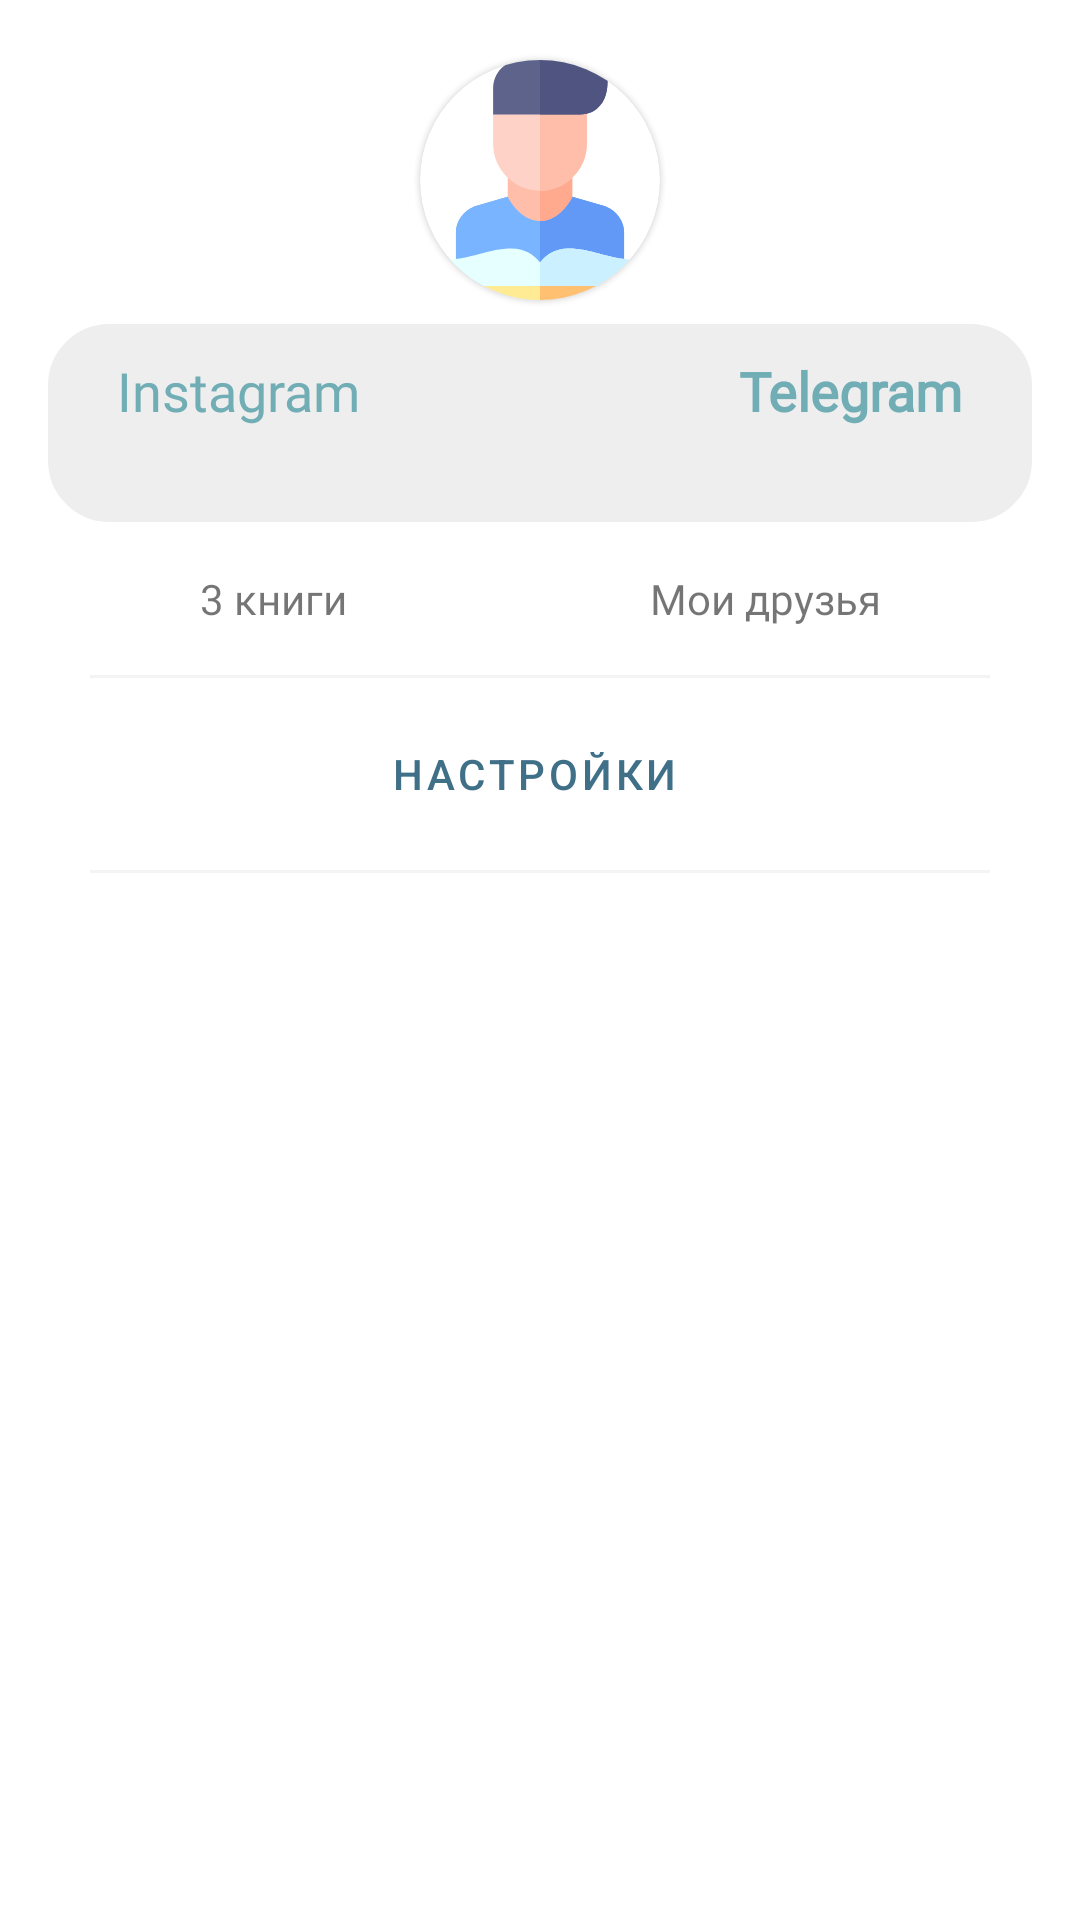

Where icons sit on this 1080×1920 app screen, as (x1, y1, x2, y2):
reading: (450, 60, 630, 300)
